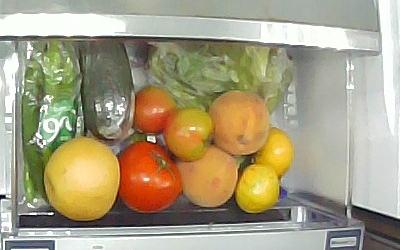peach: (206, 87, 269, 155), (173, 142, 238, 207)
pear: (42, 135, 120, 221)
tangerine: (247, 125, 294, 178), (234, 161, 280, 213)
tomato: (114, 139, 182, 213), (163, 105, 213, 162), (130, 85, 177, 135)
